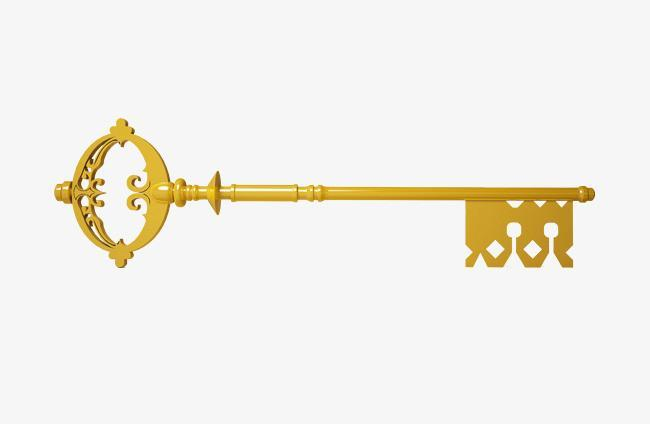key: (44, 114, 601, 292)
